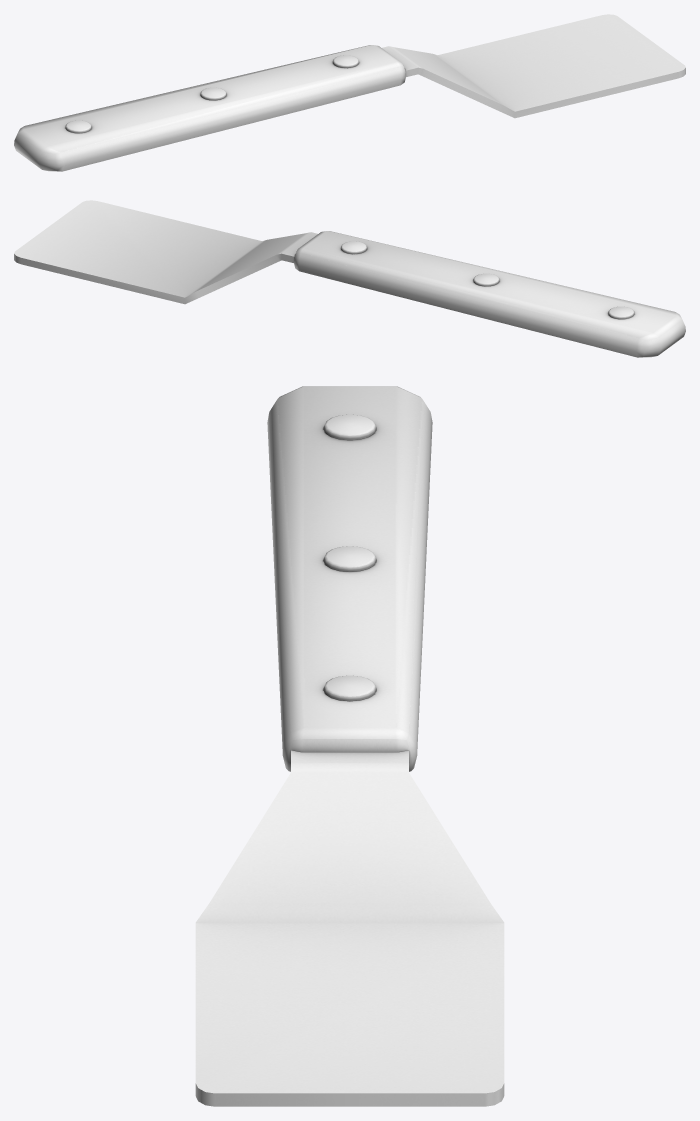
The model's file is Spatula.obj.
3 views of the same model, one above another, from view 1: azimuth 30°, elevation 25°; view 2: azimuth 150°, elevation 25°; view 3: azimuth 270°, elevation 25° (orthographic). The views are drawn at different scales.
Visible parts, largest first — view 1: Cube_Cube.002; view 2: Cube_Cube.002; view 3: Cube_Cube.002.
Boxes of the visible parts, x1,y1,x2,y2 form: Cube_Cube.002: (14, 14, 685, 171); Cube_Cube.002: (14, 200, 685, 357); Cube_Cube.002: (195, 386, 504, 1106).
Bounding box in the file's own units: 7.14 × 0.6742 × 1.53.
